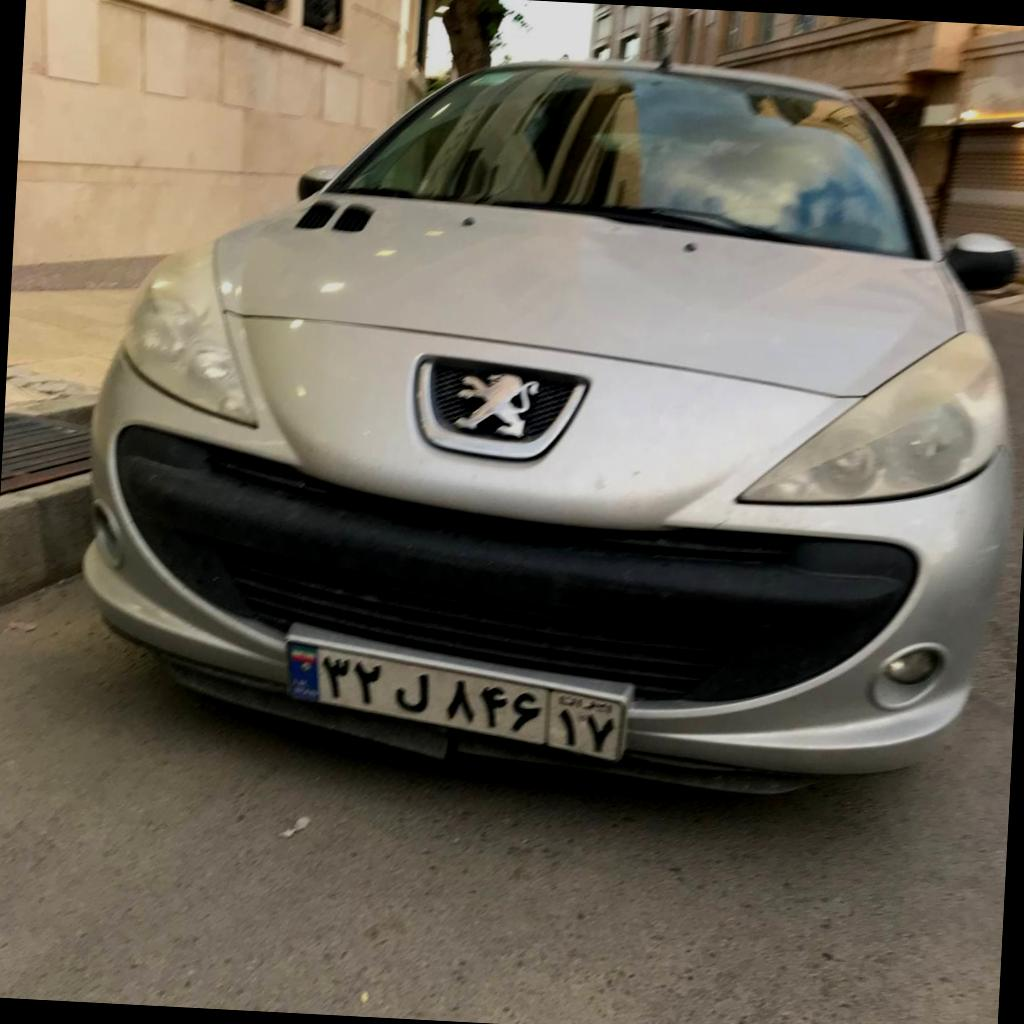Plates: (287, 642, 623, 762)
